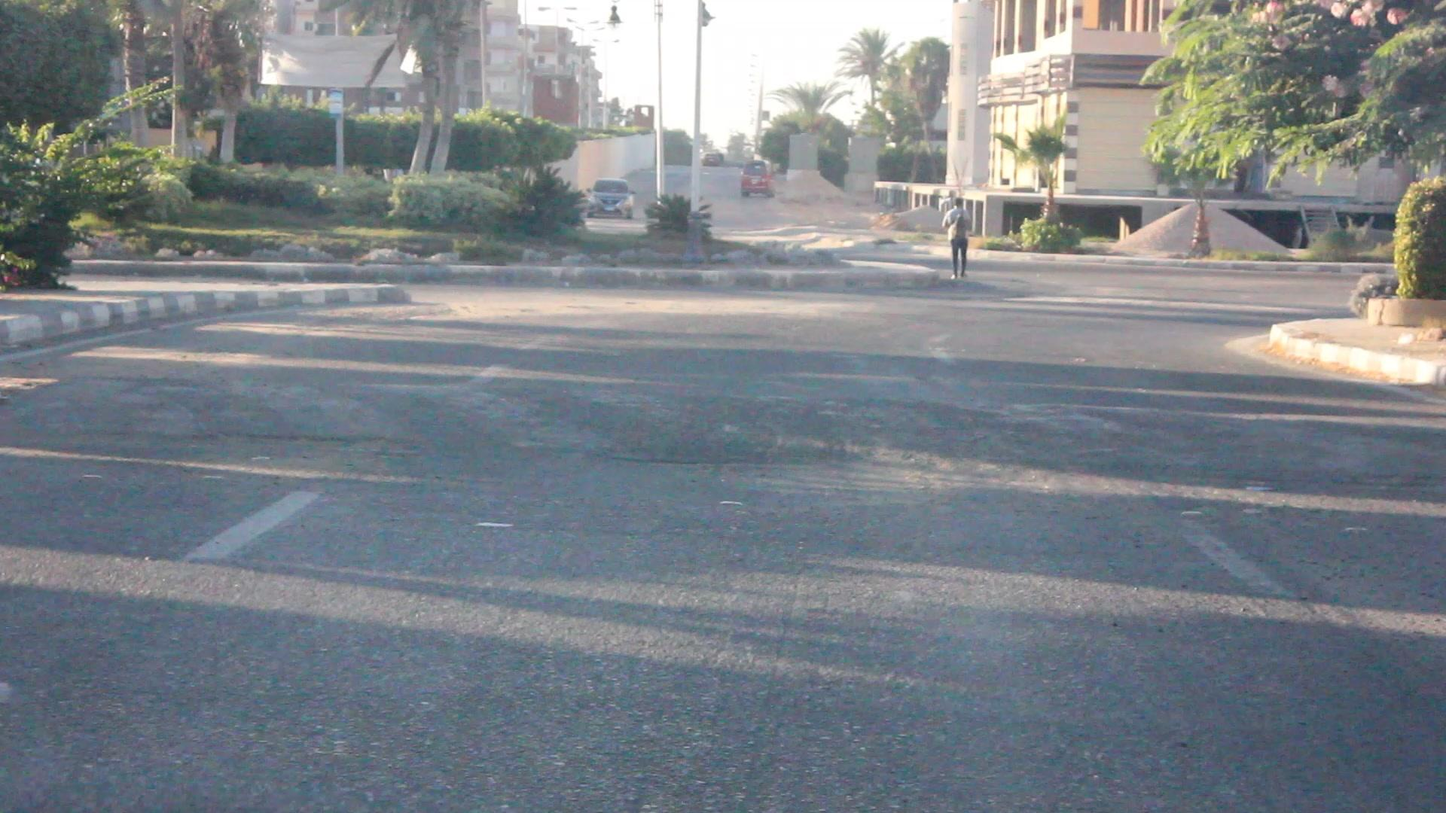Bump: (72, 359, 1433, 489)
